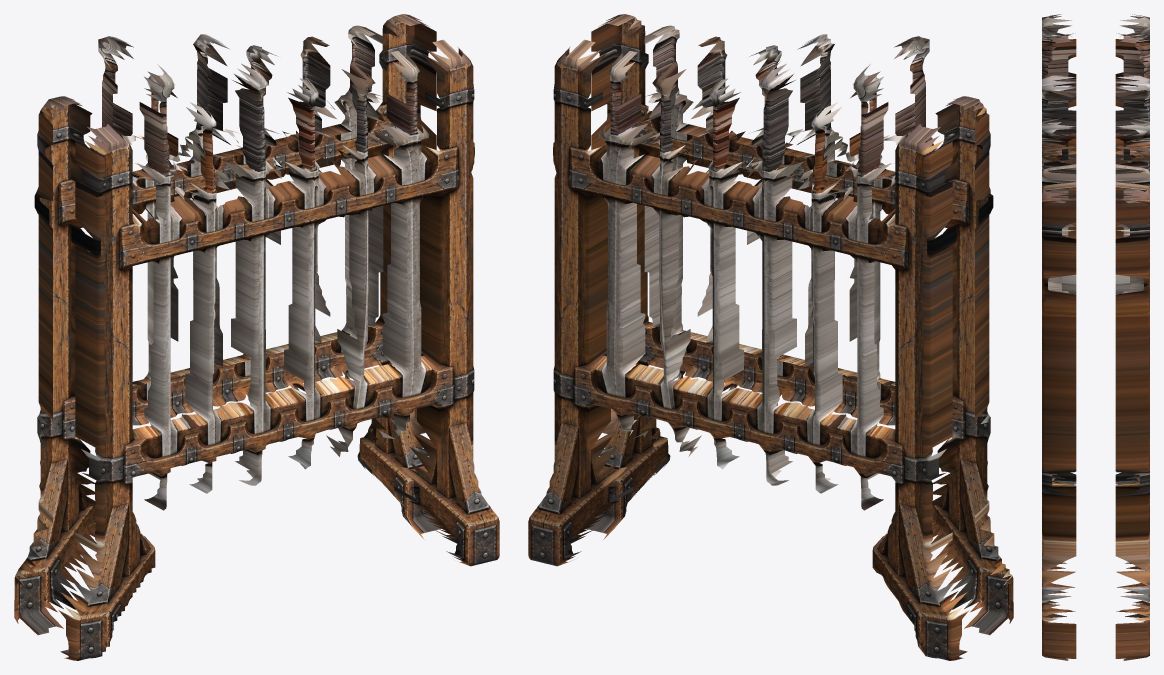
Rendered from v4-forge-scatter-weapon-rack.glb.
3 renders of one model, left to right at view 1: azimuth 30°, elevation 25°; view 2: azimuth 150°, elevation 25°; view 3: azimuth 270°, elevation 25°, orthographic. The views are drawn at different scales.
Visible parts, largest first — view 1: v4-forge-scatter-weapon-rack; view 2: v4-forge-scatter-weapon-rack; view 3: v4-forge-scatter-weapon-rack.
Part boxes in pixels (box(x1,y1,x2,y2)): v4-forge-scatter-weapon-rack: box(14, 14, 499, 660); v4-forge-scatter-weapon-rack: box(528, 14, 1013, 660); v4-forge-scatter-weapon-rack: box(1042, 14, 1149, 660).
Bounding box in the file's own units: 0.7889 × 0.9861 × 0.1927.
Materials: 1 (1 with a texture image).
